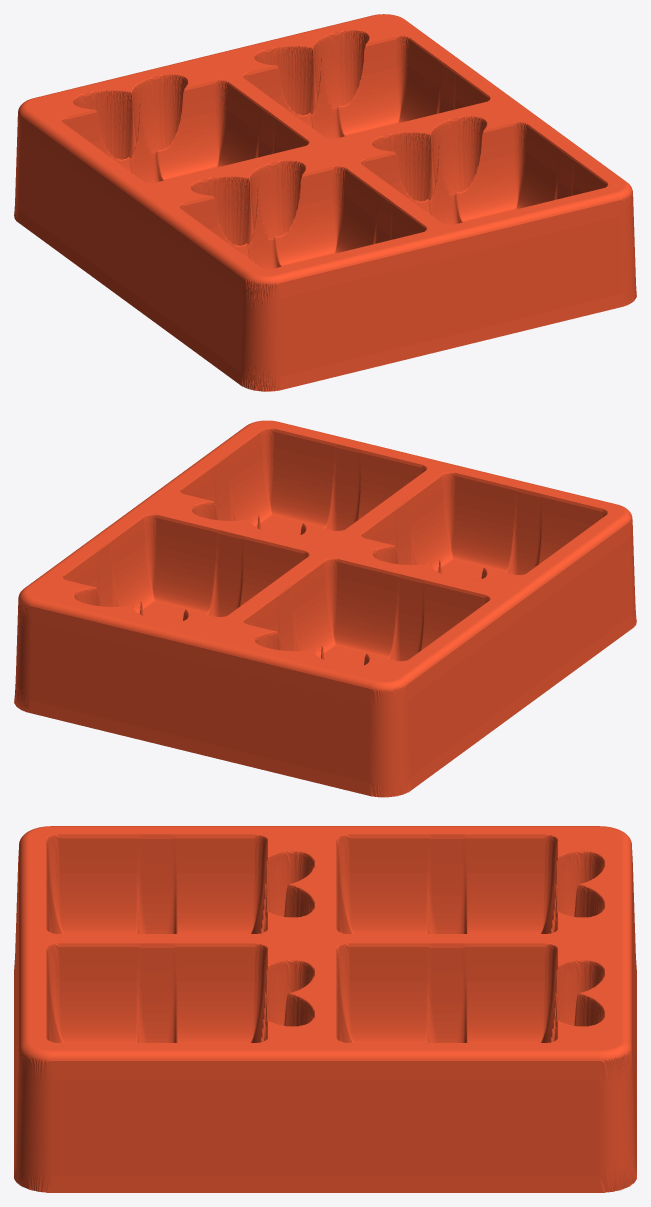
The model's file is mold.glb.
3 views of the same model, one above another, from view 1: azimuth 30°, elevation 25°; view 2: azimuth 150°, elevation 25°; view 3: azimuth 270°, elevation 25° (orthographic). The views are drawn at different scales.
Visible parts, largest first — view 1: geometry_0; view 2: geometry_0; view 3: geometry_0.
Part boxes in pixels (left/top/right/bottom): geometry_0: left=14, top=14, right=636, bottom=391; geometry_0: left=14, top=420, right=636, bottom=797; geometry_0: left=14, top=826, right=636, bottom=1192.
Bounding box in the file's own units: 0.1338 × 0.036 × 0.1493.
